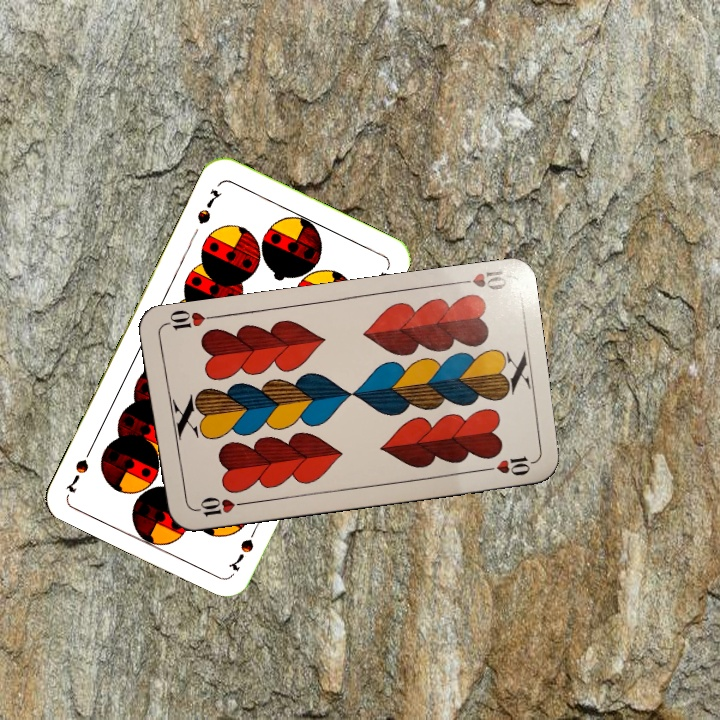H10: (450, 266, 509, 293), (188, 493, 247, 519)
S7: (224, 520, 261, 574), (193, 185, 225, 227)
